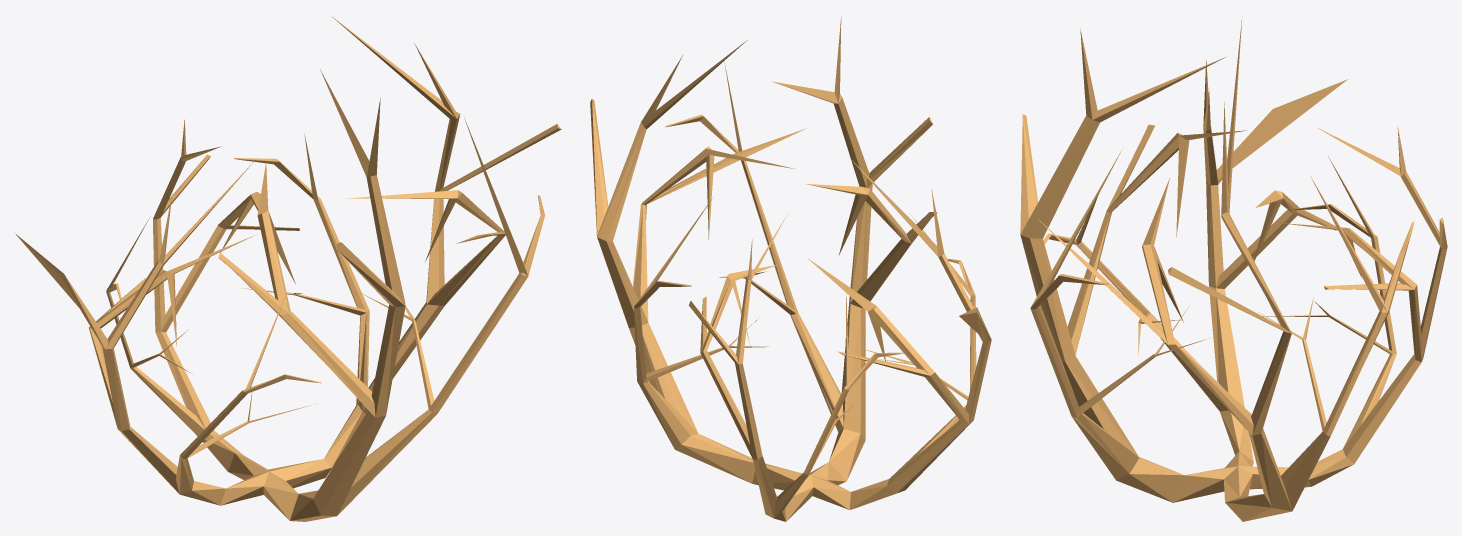
Rendered from desert_shrub2.obj.
3 views of the same model, side by side, from view 1: azimuth 30°, elevation 25°; view 2: azimuth 150°, elevation 25°; view 3: azimuth 270°, elevation 25° (orthographic). The views are drawn at different scales.
Size of the model in its own units: 3.28 by 3.18 by 2.37.
